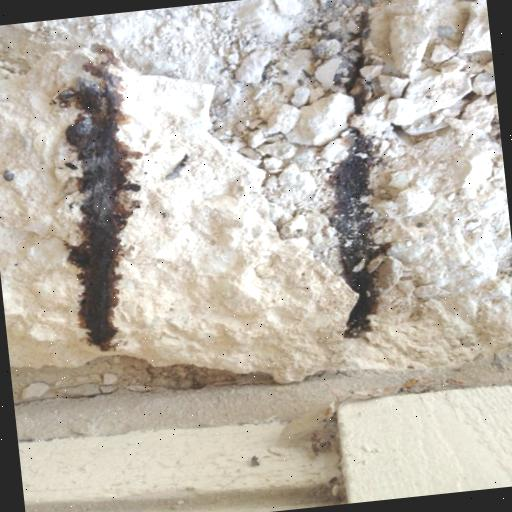spalling: (20, 12, 170, 384), (294, 0, 425, 366)
